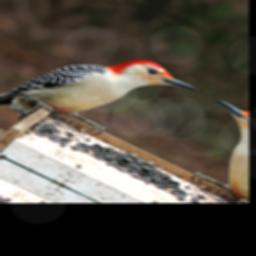Woodpecker: (0, 20, 202, 169)
